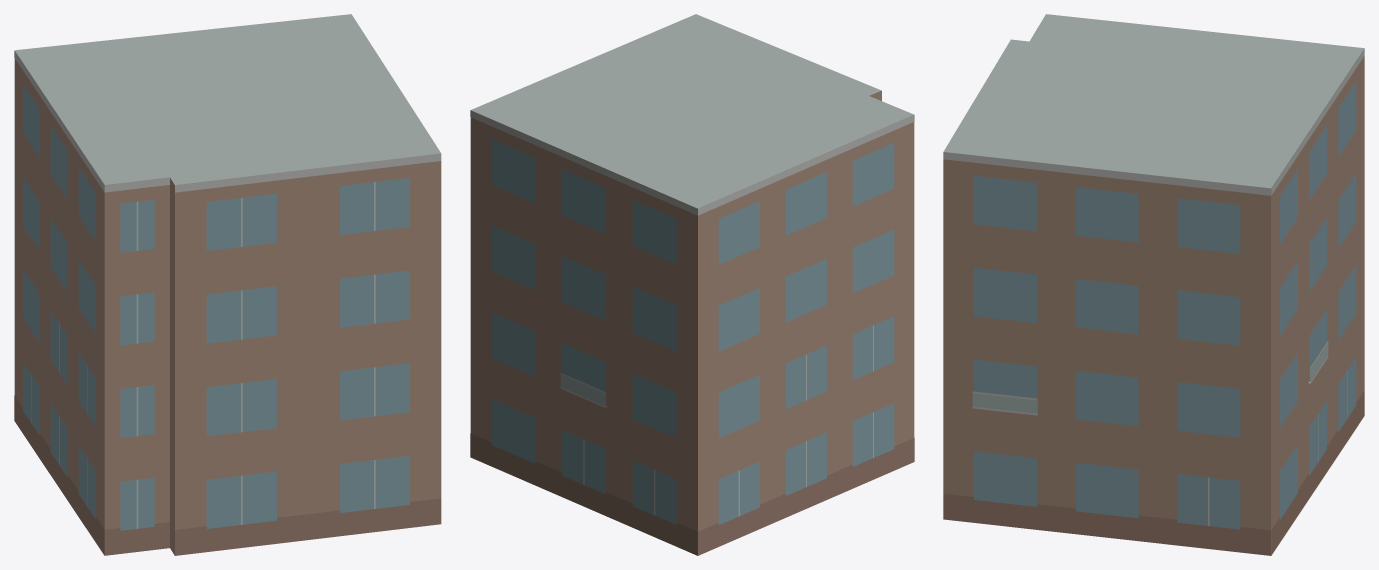
Rendered from survey-upis-32532448.glb.
The picture shows the model from 3 angles, left to right: view 1: azimuth 30°, elevation 25°; view 2: azimuth 150°, elevation 25°; view 3: azimuth 270°, elevation 25°; orthographic projection. The views are drawn at different scales.
Visible parts, largest first — view 1: survey-upis-32532448.tmp; view 2: survey-upis-32532448.tmp; view 3: survey-upis-32532448.tmp.
Boxes of the visible parts, bbox=[...] form: survey-upis-32532448.tmp: bbox=[14, 14, 441, 555]; survey-upis-32532448.tmp: bbox=[470, 14, 914, 555]; survey-upis-32532448.tmp: bbox=[943, 14, 1364, 555].
Bounding box in the file's own units: 12.32 × 12.1 × 12.58.
